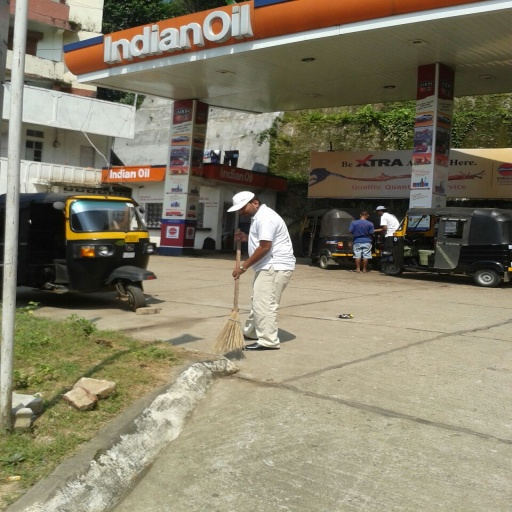roof: (63, 1, 512, 115)
